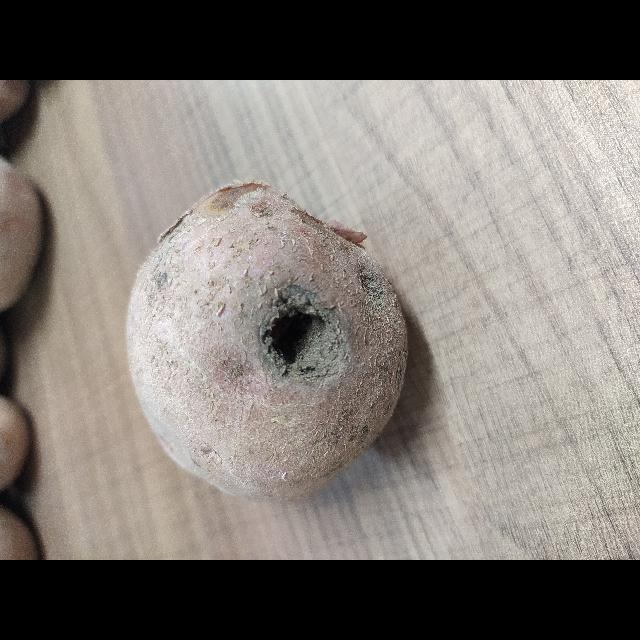Damaged potato: (46, 198, 396, 497)
